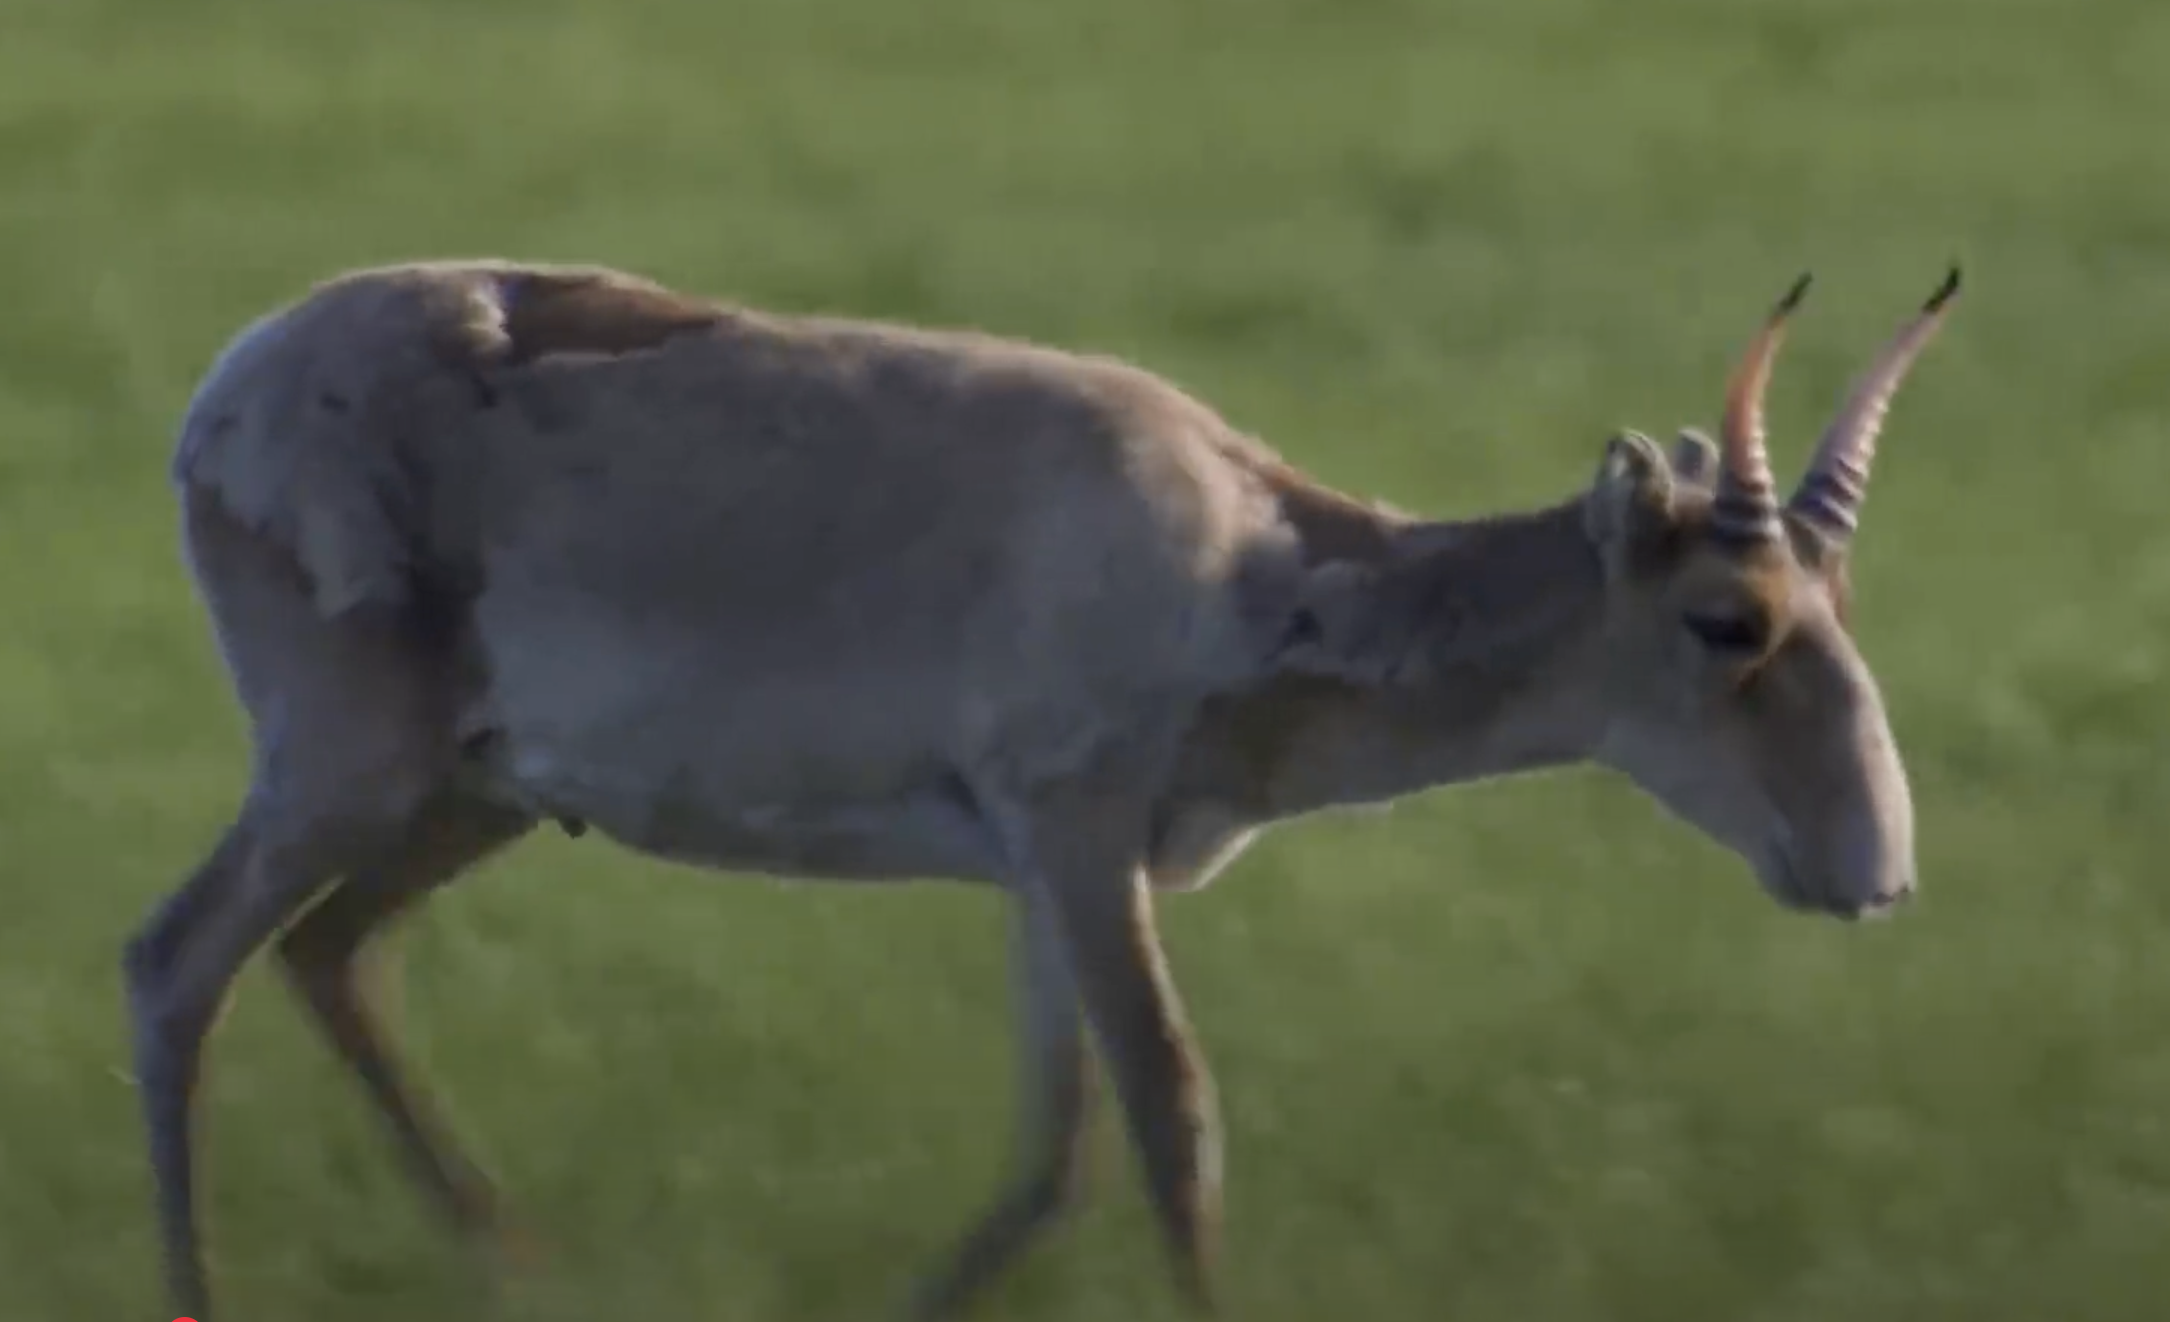saiga: (46, 147, 2038, 1262)
